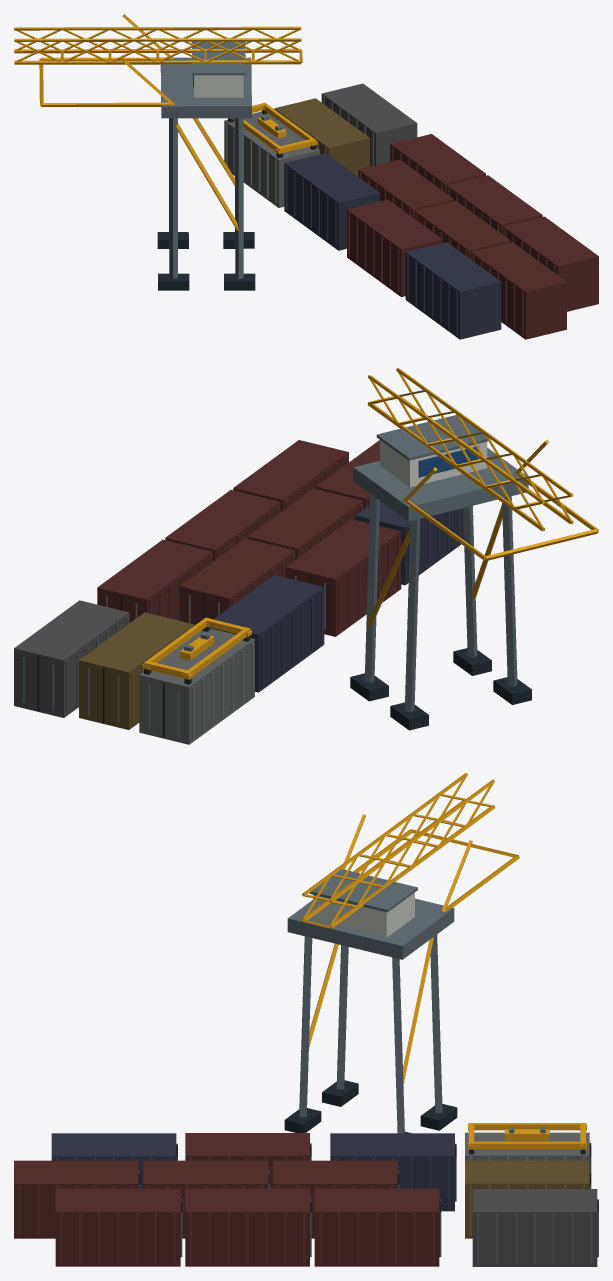
The model's file is SeaportSystem-02-ShipToShoreGantryCrane-01-20Footer-1-10.glb.
The picture shows the model from 3 angles, top to bottom: view 1: azimuth 30°, elevation 25°; view 2: azimuth 150°, elevation 25°; view 3: azimuth 270°, elevation 25°; orthographic projection. The views are drawn at different scales.
Visible parts, largest first — view 1: SeaportSystem-02-ShipToShoreGantryCrane-01-20Footer-1-10; view 2: SeaportSystem-02-ShipToShoreGantryCrane-01-20Footer-1-10; view 3: SeaportSystem-02-ShipToShoreGantryCrane-01-20Footer-1-10.
Boxes of the visible parts, x1=… form: SeaportSystem-02-ShipToShoreGantryCrane-01-20Footer-1-10: x1=14, y1=14, x2=598, y2=339; SeaportSystem-02-ShipToShoreGantryCrane-01-20Footer-1-10: x1=14, y1=368, x2=598, y2=744; SeaportSystem-02-ShipToShoreGantryCrane-01-20Footer-1-10: x1=14, y1=773, x2=598, y2=1266.
Size of the model in its own units: 57.07 by 31.18 by 61.9.
